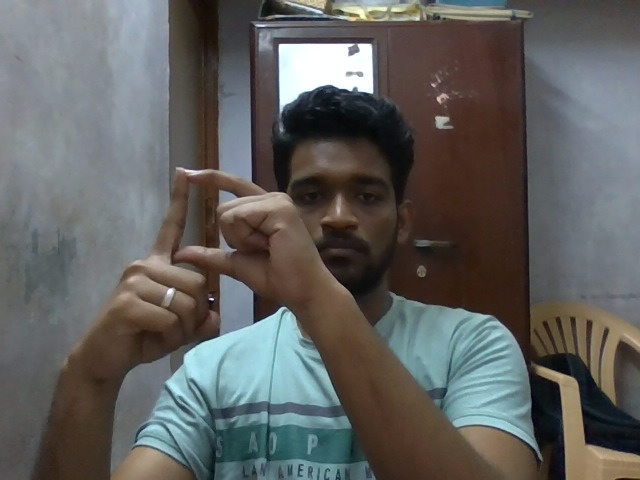D: (71, 164, 330, 378)
